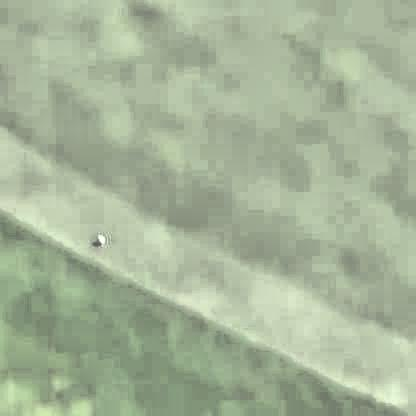golfball: (93, 235, 104, 245)
